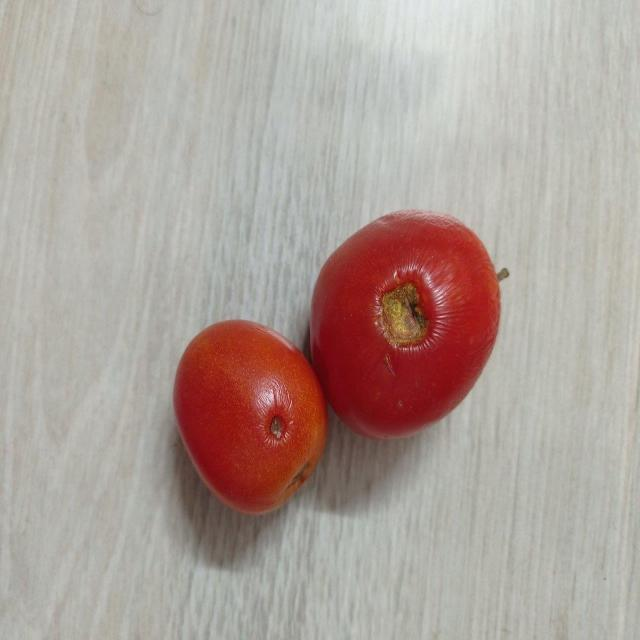Rotten: (310, 208, 500, 439)
